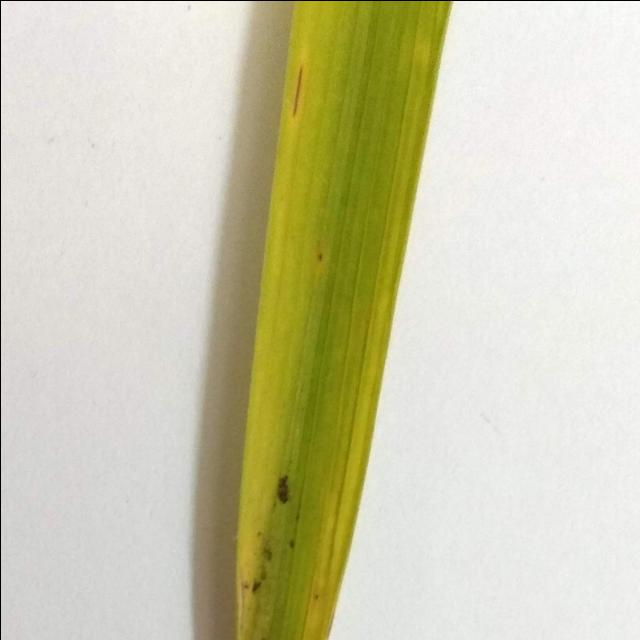Brown spot: (198, 0, 472, 640)
